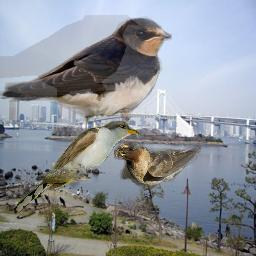Cuckoo: (11, 119, 144, 214)
Swallow: (0, 15, 172, 125), (114, 141, 202, 188)
